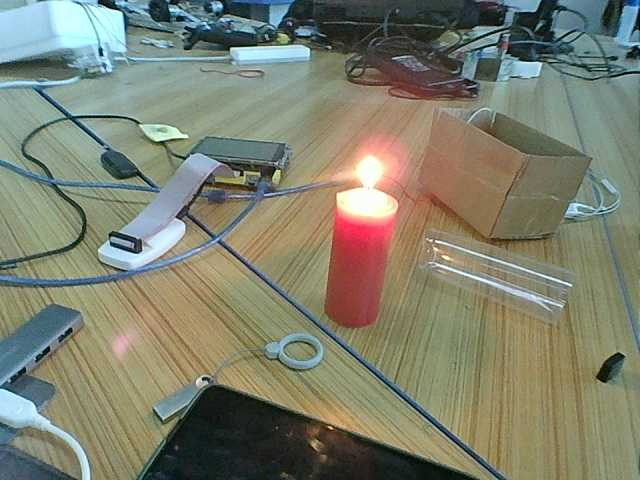candle: (324, 209, 407, 325)
fire: (339, 156, 395, 211)
